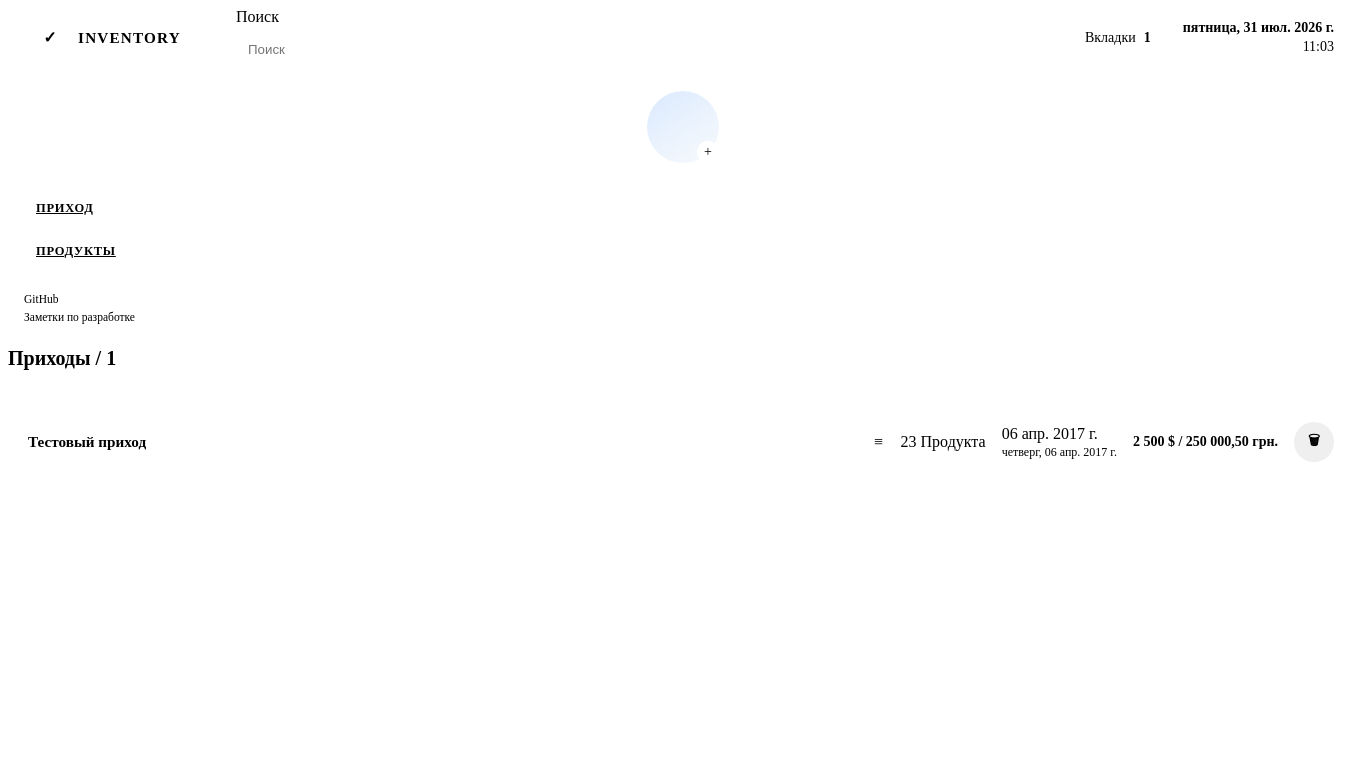
Test: User scenarios (integration) › navigates between orders and products
expect the heading "Приходы / 1" is shown: met, box [8,347,116,370]
Click the link "ПРОДУКТЫ".
click(76, 251)  # box [36,244,116,258]
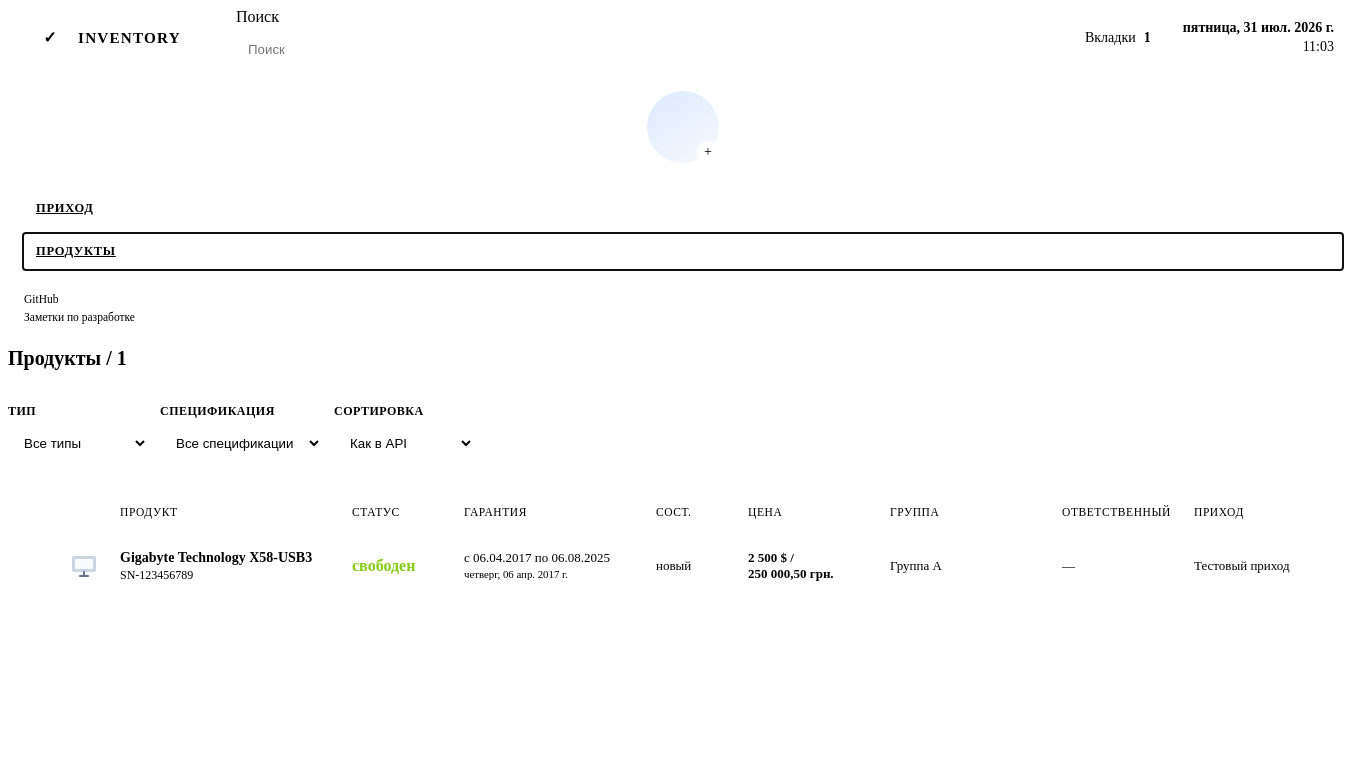
expect the heading "Продукты / 1" is shown: met, box [8,347,127,370]
